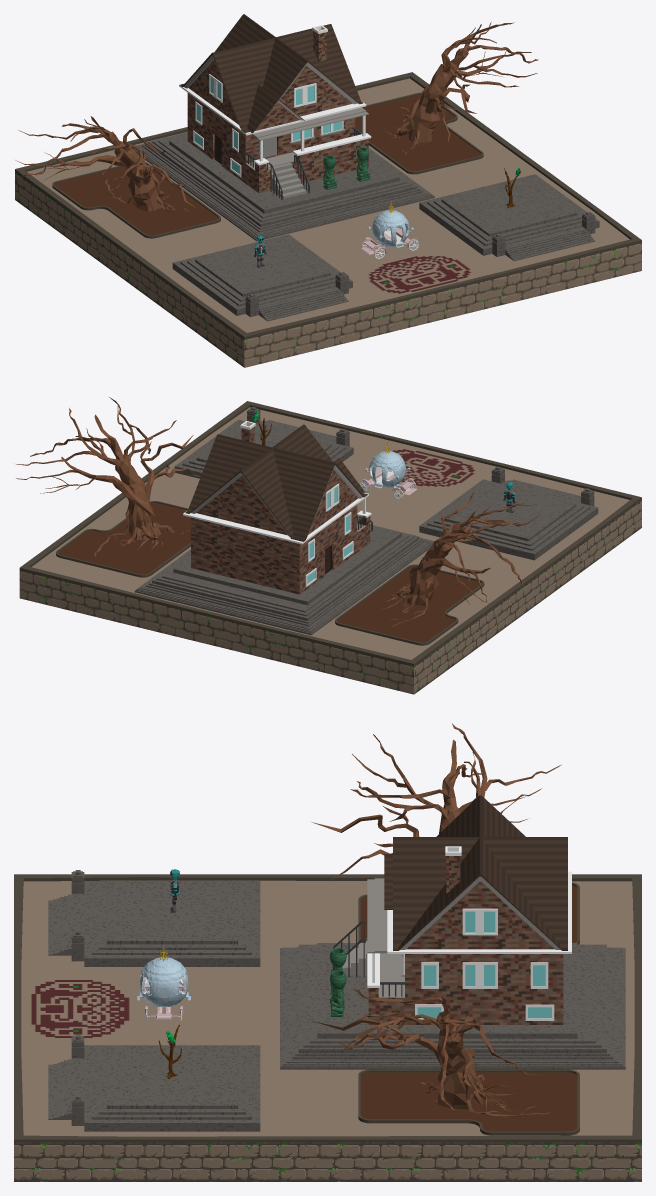
3 renders of one model, top to bottom at view 1: azimuth 30°, elevation 25°; view 2: azimuth 150°, elevation 25°; view 3: azimuth 270°, elevation 25°, orthographic. The views are drawn at different scales.
Parts seen in each view (by area): view 1: Cube.011, Cube.117, VEHICLES_FANTASY_CARRIAGE; view 2: Cube.011, Cube.117, VEHICLES_FANTASY_CARRIAGE; view 3: Cube.011, Cube.117, VEHICLES_FANTASY_CARRIAGE.
Part boxes in pixels (x1,y1,x2,y2): Cube.011: (15, 22, 641, 367); Cube.117: (179, 14, 371, 199); VEHICLES_FANTASY_CARRIAGE: (361, 201, 418, 259); Cube.011: (14, 397, 641, 694); Cube.117: (183, 421, 372, 594); VEHICLES_FANTASY_CARRIAGE: (359, 441, 416, 499); Cube.011: (14, 723, 641, 1181); Cube.117: (333, 795, 571, 1024); VEHICLES_FANTASY_CARRIAGE: (137, 945, 190, 1023).
Size of the model in its own units: 5099 by 1683 by 4000.
Materials: 34 (7 with a texture image).
